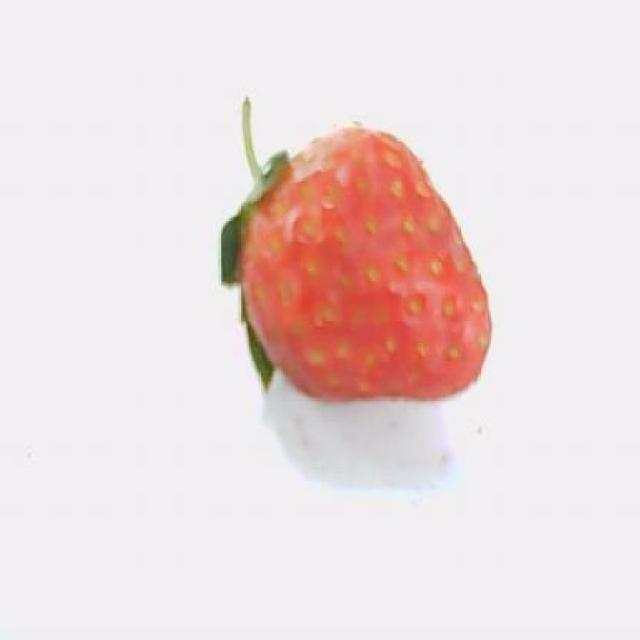strawberry: (221, 99, 490, 399)
